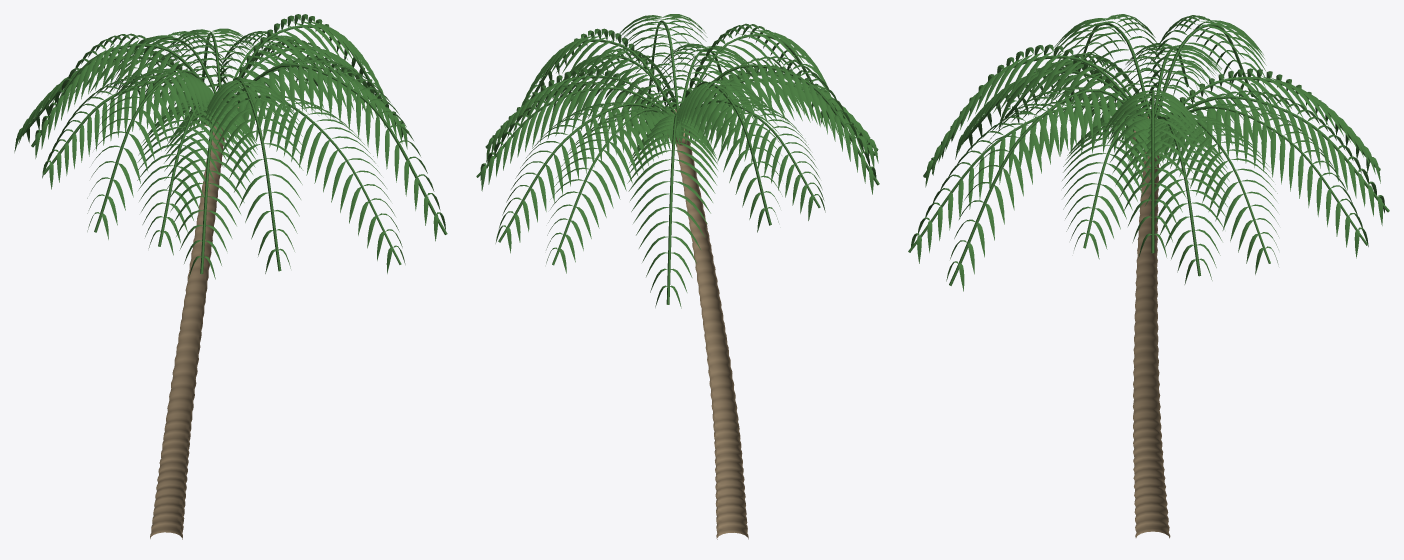
The model's file is palm-botanical.glb.
3 renders of one model, left to right at view 1: azimuth 30°, elevation 25°; view 2: azimuth 150°, elevation 25°; view 3: azimuth 270°, elevation 25°, orthographic. The views are drawn at different scales.
Parts seen in each view (by area): view 1: PinnateLeaflets, GrowthRingTrunk, FrondRachis; view 2: PinnateLeaflets, GrowthRingTrunk, FrondRachis; view 3: PinnateLeaflets, GrowthRingTrunk, FrondRachis.
Boxes of the visible parts, x1,y1,x2,y2 form: PinnateLeaflets: [14, 14, 445, 279]; GrowthRingTrunk: [150, 126, 224, 539]; FrondRachis: [16, 25, 447, 274]; PinnateLeaflets: [480, 14, 878, 308]; GrowthRingTrunk: [676, 137, 748, 539]; FrondRachis: [476, 20, 879, 304]; PinnateLeaflets: [910, 14, 1384, 291]; GrowthRingTrunk: [1133, 152, 1170, 538]; FrondRachis: [908, 23, 1389, 285].
Size of the model in its own units: 7.11 by 9.62 by 8.22.
